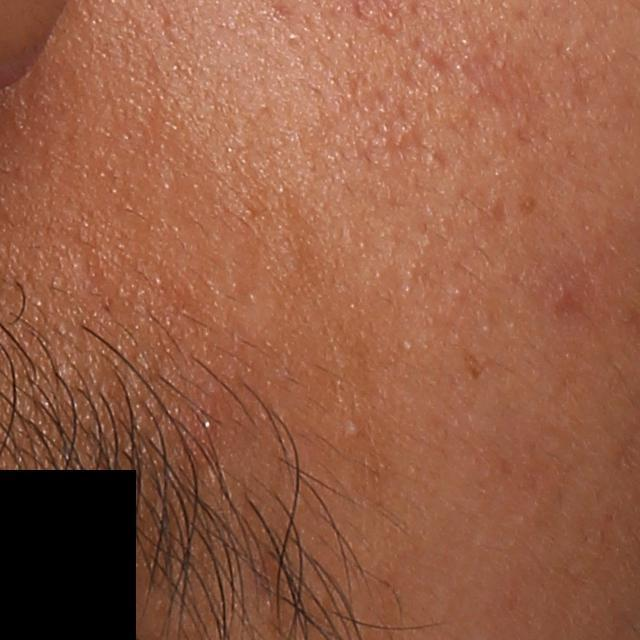comedo: (342, 416, 370, 440), (453, 287, 465, 303)
